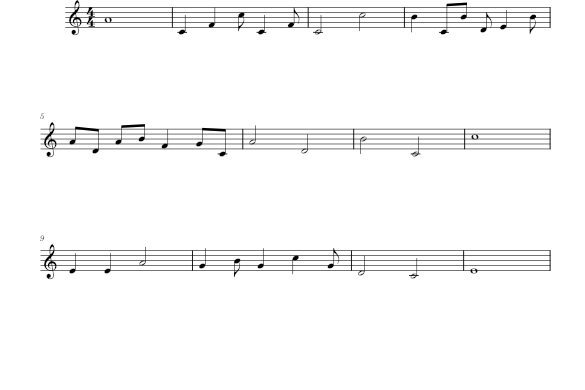Treble Clef: (40, 121, 61, 160), (40, 243, 61, 282), (65, 0, 85, 38)
